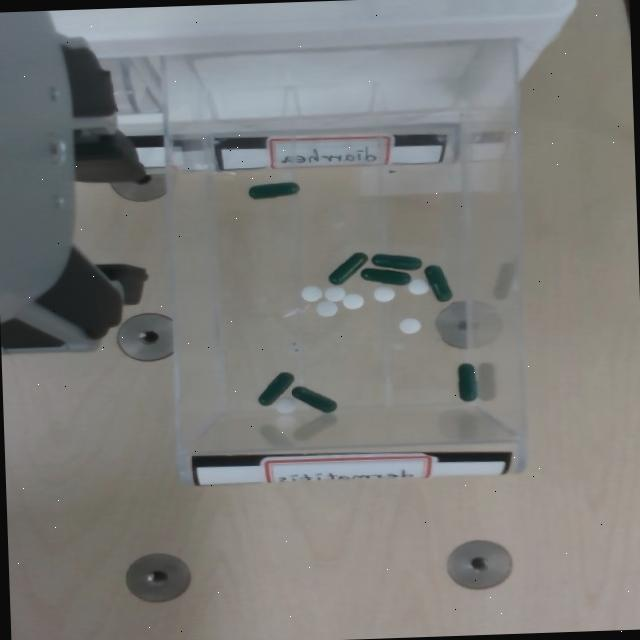ganakan_tab: (299, 283, 325, 301), (371, 283, 395, 301), (274, 396, 297, 414), (406, 276, 429, 294), (323, 283, 346, 301), (397, 316, 421, 333), (341, 291, 364, 308), (273, 397, 297, 413), (316, 299, 338, 316), (399, 317, 421, 333), (301, 285, 323, 300), (324, 285, 346, 300), (342, 293, 364, 308), (317, 300, 337, 316), (408, 278, 429, 293), (374, 286, 394, 301)
monodoxy_cap: (256, 369, 296, 405), (292, 383, 338, 413), (327, 251, 368, 284), (329, 252, 368, 284), (423, 262, 454, 302), (258, 371, 294, 405), (292, 386, 337, 411), (360, 264, 411, 286), (247, 180, 301, 200), (370, 250, 423, 270), (425, 265, 452, 301), (455, 361, 478, 401), (249, 181, 299, 198), (372, 253, 422, 269), (361, 268, 410, 284), (459, 362, 477, 401)
